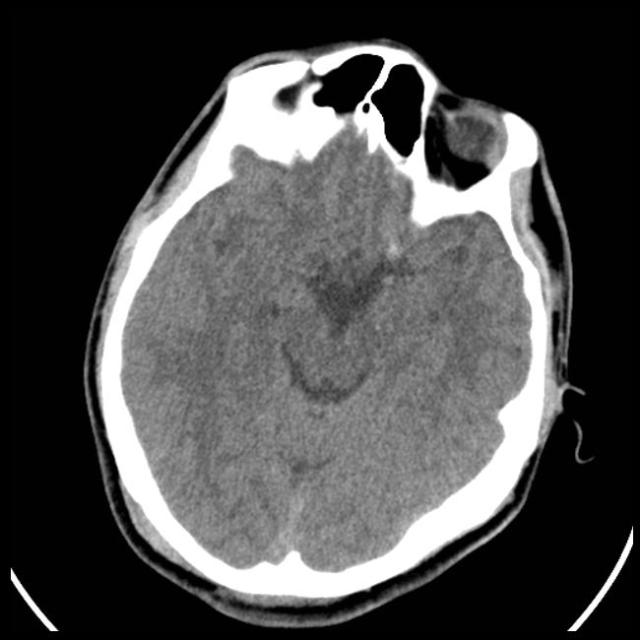lesion: (82, 36, 584, 620)
